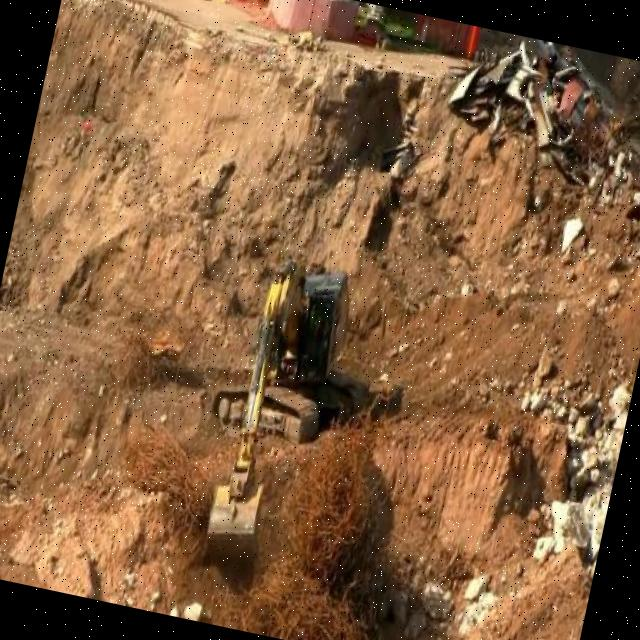Excavator: (177, 236, 403, 586)
